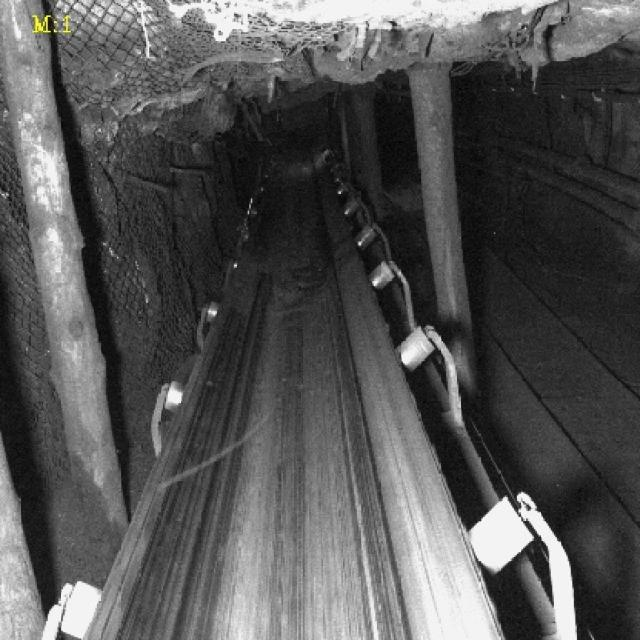bolt: (157, 409, 272, 489)
